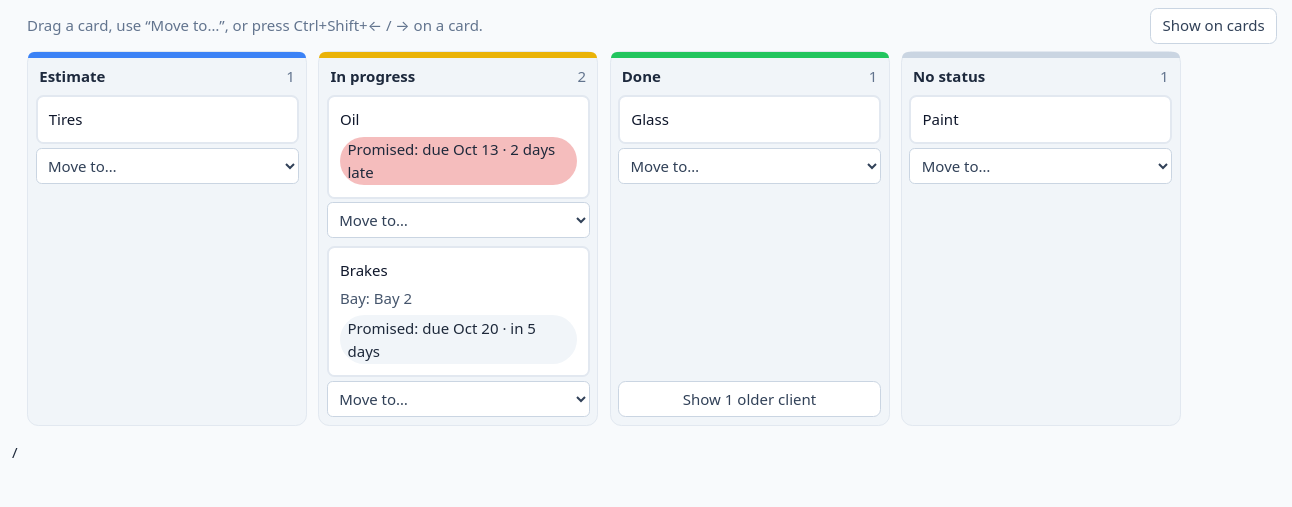
the board › shows lanes with counts and cards with chosen fields and deadline chips; a card opens its record
Click the button "Brakes Bay: Bay 2 Promised: due Oct 20 · in 5 days". click: click(364, 270)
box: [327,246,590,377]
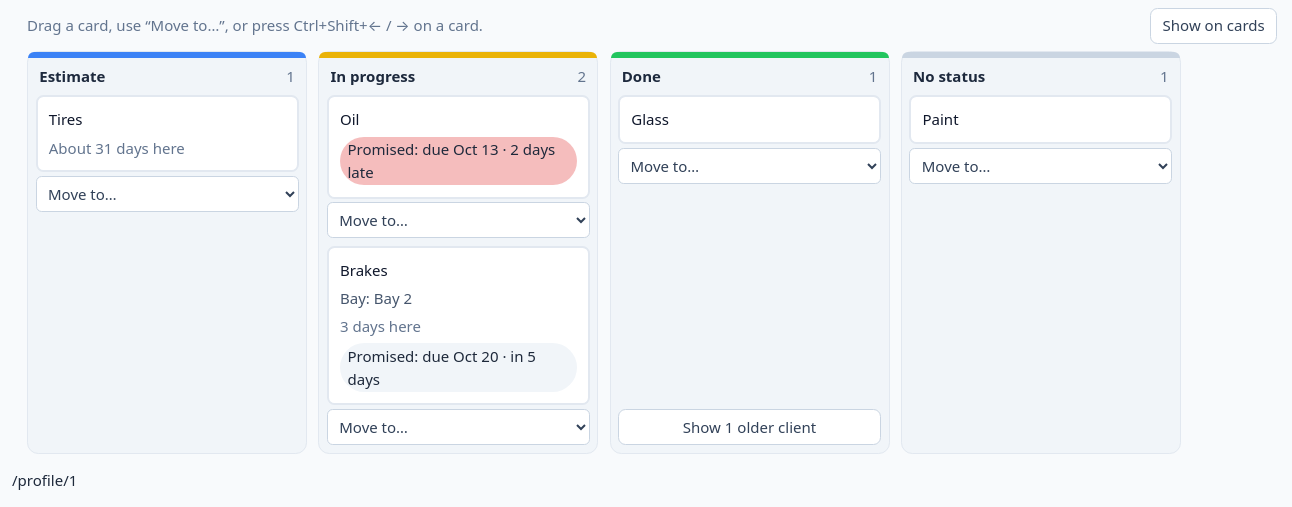
Result: the text with test id "where" reads "/profile/1" at [12,470,77,490]
